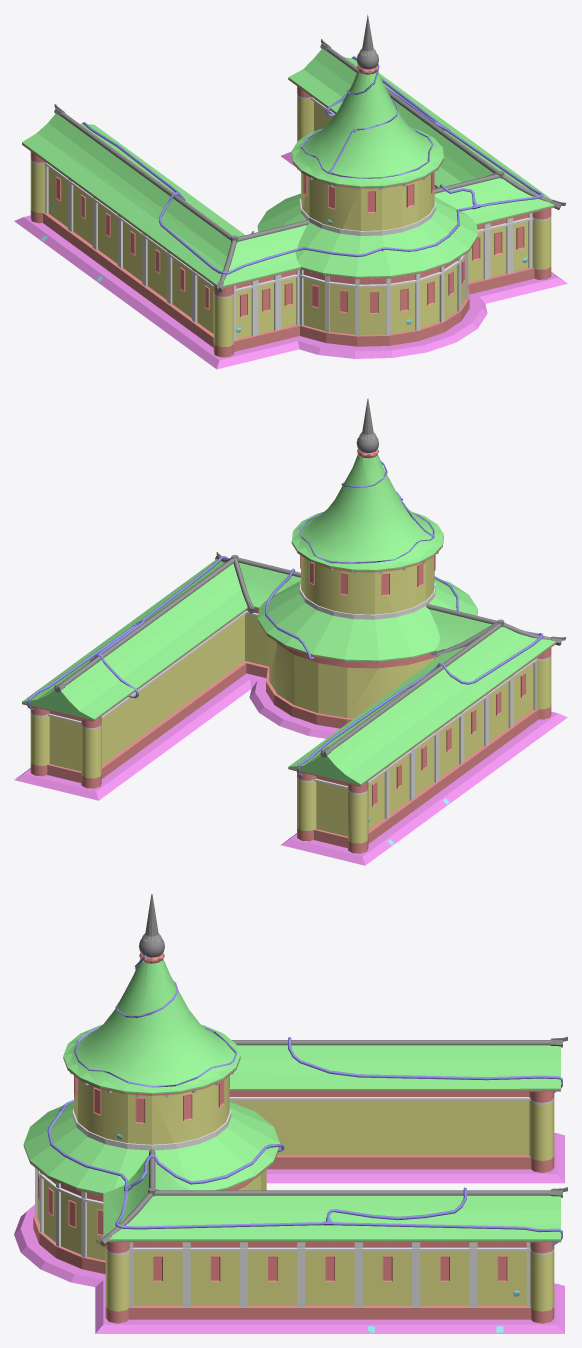
The model's file is SM_ENV_LKNVLD_Building_B_Lod2.gltf.
3 renders of one model, top to bottom at view 1: azimuth 30°, elevation 25°; view 2: azimuth 150°, elevation 25°; view 3: azimuth 270°, elevation 25°, orthographic. The views are drawn at different scales.
Visible parts, largest first — view 1: SM_ENV_LKNVLD_Building_B_Lod2; view 2: SM_ENV_LKNVLD_Building_B_Lod2; view 3: SM_ENV_LKNVLD_Building_B_Lod2.
Boxes of the visible parts, x1,y1,x2,y2 form: SM_ENV_LKNVLD_Building_B_Lod2: (14, 15, 567, 369); SM_ENV_LKNVLD_Building_B_Lod2: (14, 398, 567, 865); SM_ENV_LKNVLD_Building_B_Lod2: (14, 894, 567, 1333).
Bounding box in the file's own units: 29 × 23.2 × 34.21.
